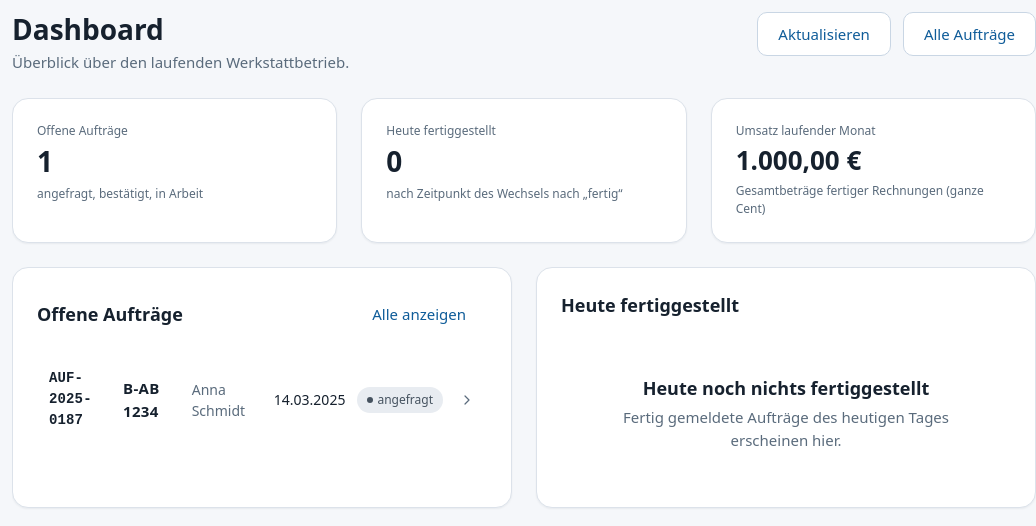
DashboardPage › reloads the numbers when the refresh control is used
Expected: the text with test id "stat-revenue-value" reads "1.000,00 €", 736,142 -> 861,178
Expected: the text with test id "stat-done-value" reads "0", 386,142 -> 402,180
Click the button "Aktualisieren".
click(824, 34)  # box 757,12 -> 891,56
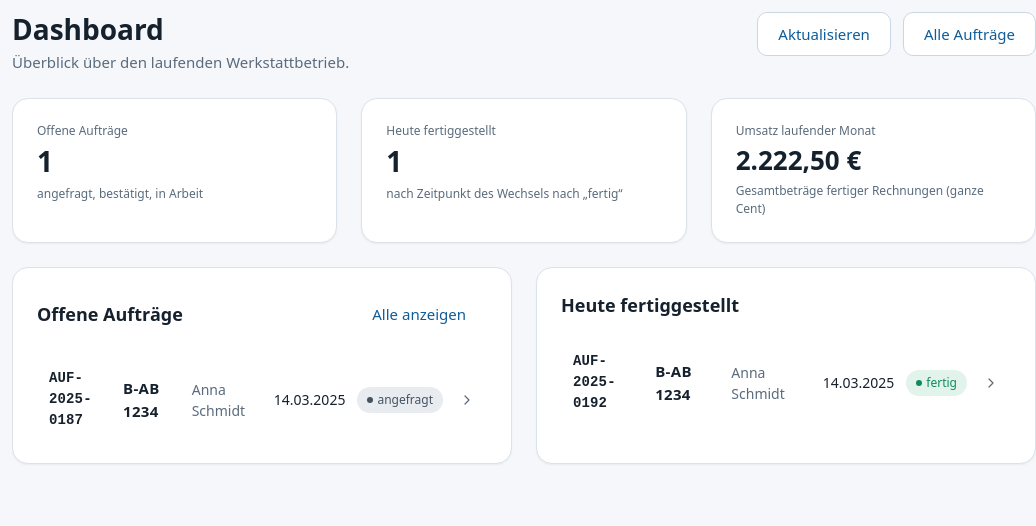
Expected: the text with test id "stat-revenue-value" reads "2.222,50 €", 736,142 -> 861,178
Expected: the text with test id "stat-done-value" reads "1", 386,142 -> 402,180
